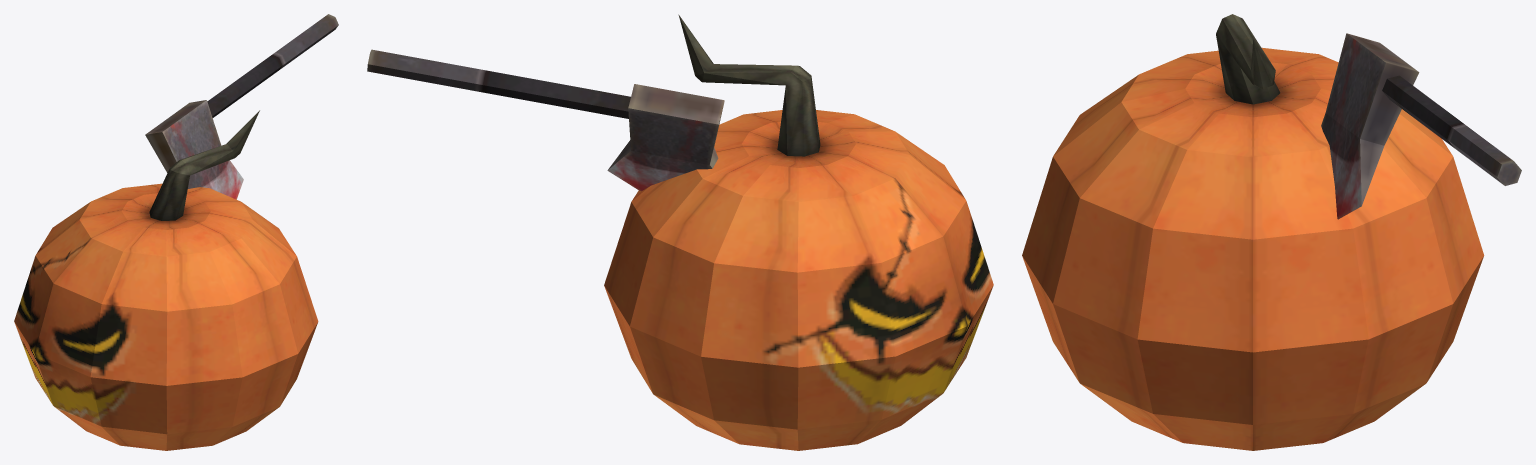
The model's file is Monkey_hallowHead.obj.
3 renders of one model, left to right at view 1: azimuth 30°, elevation 25°; view 2: azimuth 150°, elevation 25°; view 3: azimuth 270°, elevation 25°, orthographic. The views are drawn at different scales.
Visible parts, largest first — view 1: Monkey_hallowHead_tri; view 2: Monkey_hallowHead_tri; view 3: Monkey_hallowHead_tri.
Part boxes in pixels (bbox=[...]): Monkey_hallowHead_tri: bbox=[14, 14, 338, 450]; Monkey_hallowHead_tri: bbox=[367, 14, 993, 450]; Monkey_hallowHead_tri: bbox=[1022, 14, 1521, 450].
Bounding box in the file's own units: 0.5503 × 0.3944 × 0.4094.
Materials: 1 (1 with a texture image).
